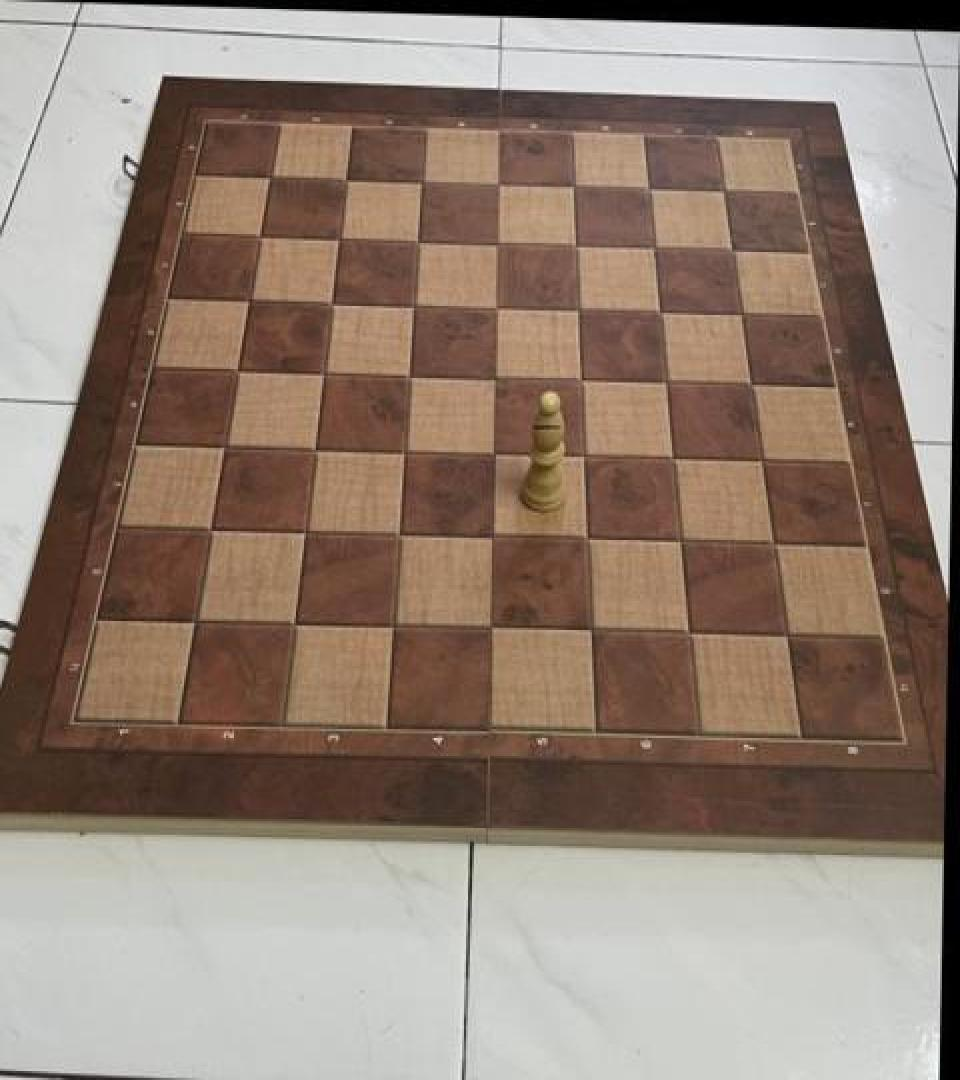xcorner: (252, 156, 286, 195), (642, 291, 676, 330), (393, 353, 427, 392), (656, 436, 690, 475), (476, 606, 510, 645), (705, 170, 739, 208), (630, 168, 664, 206), (555, 166, 589, 204), (480, 163, 514, 201), (404, 161, 438, 199), (329, 159, 363, 197), (714, 230, 748, 268), (636, 228, 670, 266), (558, 225, 592, 263), (479, 223, 513, 261), (401, 220, 435, 258), (322, 218, 356, 256), (243, 215, 277, 253), (723, 294, 757, 332), (561, 289, 595, 327), (479, 287, 513, 325), (397, 285, 431, 323), (315, 282, 349, 320), (232, 279, 266, 317), (733, 364, 767, 402), (649, 361, 683, 399), (564, 359, 598, 397), (478, 356, 512, 394), (307, 351, 341, 389), (221, 349, 255, 387), (744, 439, 778, 477), (567, 434, 601, 472), (478, 432, 512, 470), (388, 430, 422, 468), (299, 428, 333, 466), (209, 426, 243, 464), (756, 522, 790, 560), (664, 520, 698, 558), (571, 518, 605, 556), (477, 516, 511, 554), (384, 513, 418, 551), (289, 511, 323, 549), (195, 508, 229, 546), (769, 613, 803, 651), (672, 611, 706, 649), (574, 609, 608, 647), (378, 604, 412, 642), (279, 602, 313, 640), (180, 600, 214, 638)
